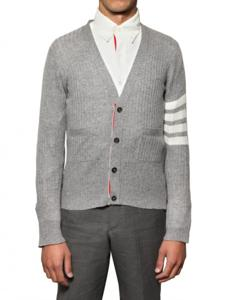C_cardigan sweater: (23, 26, 202, 239)
